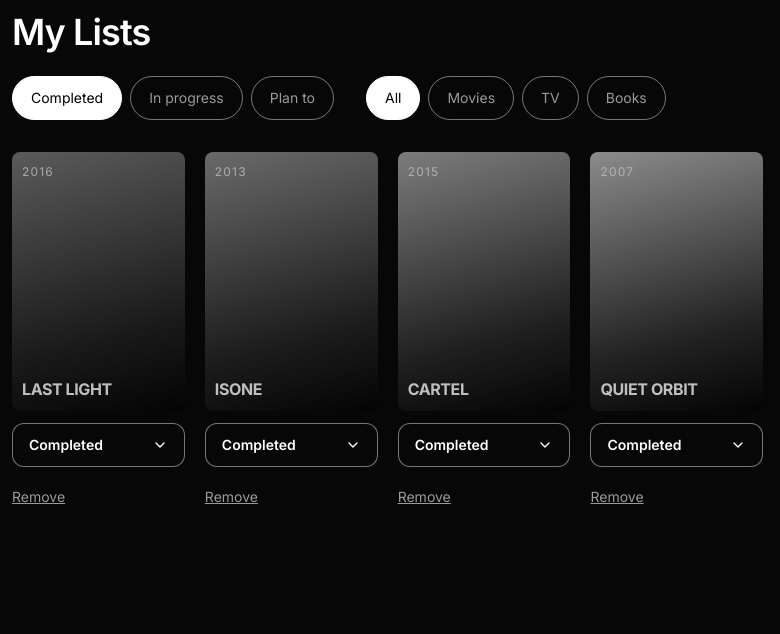
Scenario: MyLists › a status change rolls back and shows an error when the API rejects
Check: the link "2016 Last Light" is shown, box [12, 152, 185, 411]
What coordinates should you click on to do the following:
click the dropdown labelled "Completed" below "Last Light"
I would click on:
 (98, 445)
Its box is [12, 423, 185, 467].
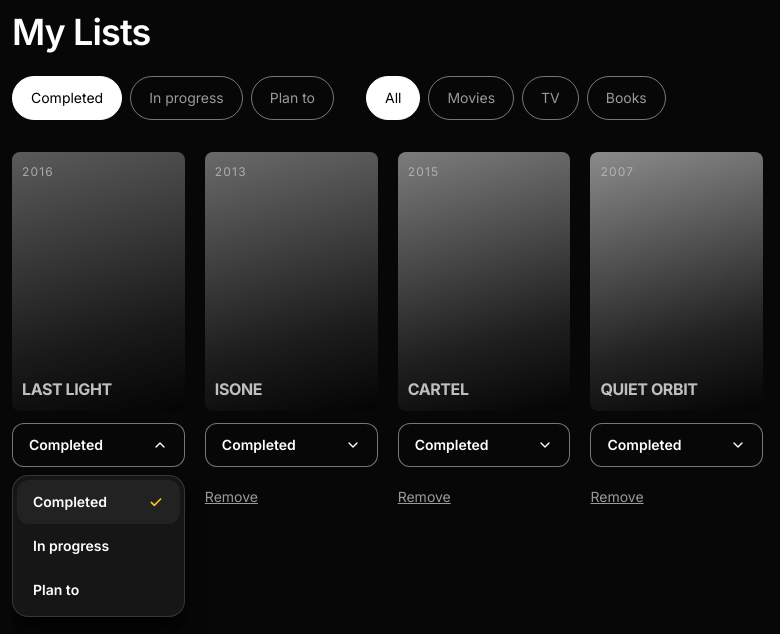
What coordinates should you click on to do the following:
click the option "In progress"
I would click on:
 (71, 546)
Its box is [33, 537, 109, 554].
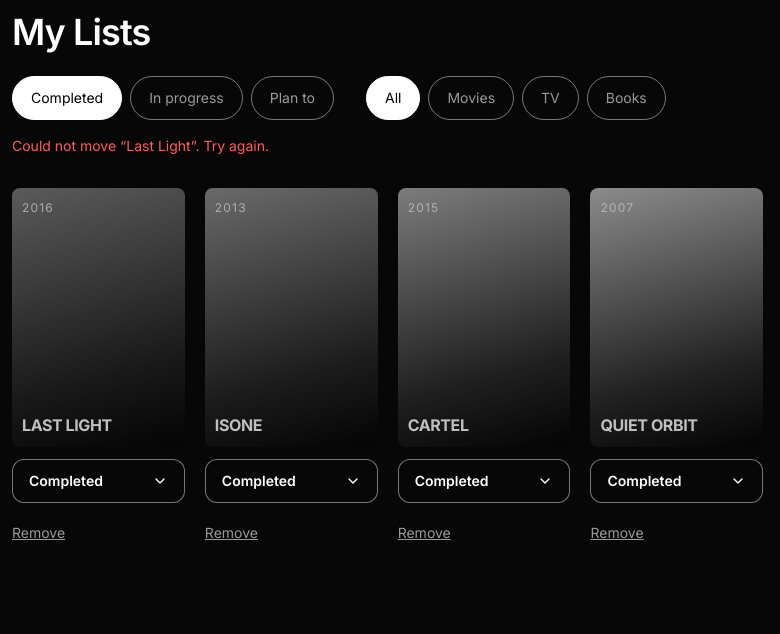
Check: the dropdown named "Status for Last Light" is shown, box [12, 459, 185, 503]
Check: the message shows "Could not move", box [12, 137, 269, 154]
